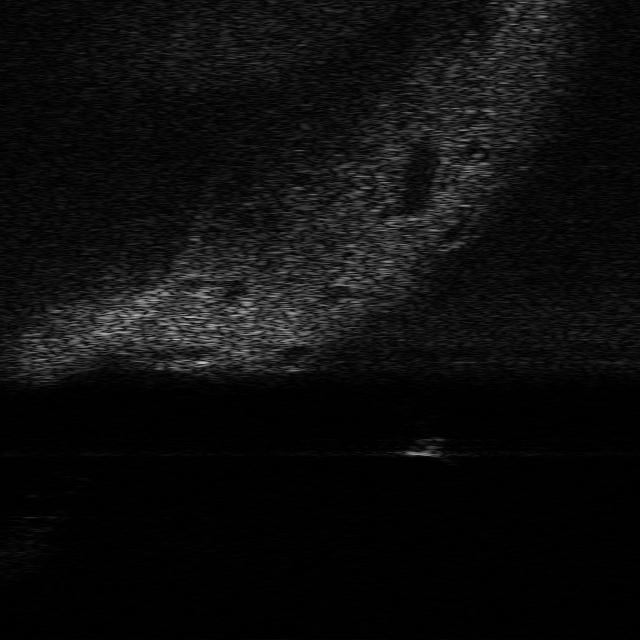cube: (402, 434, 448, 458)
